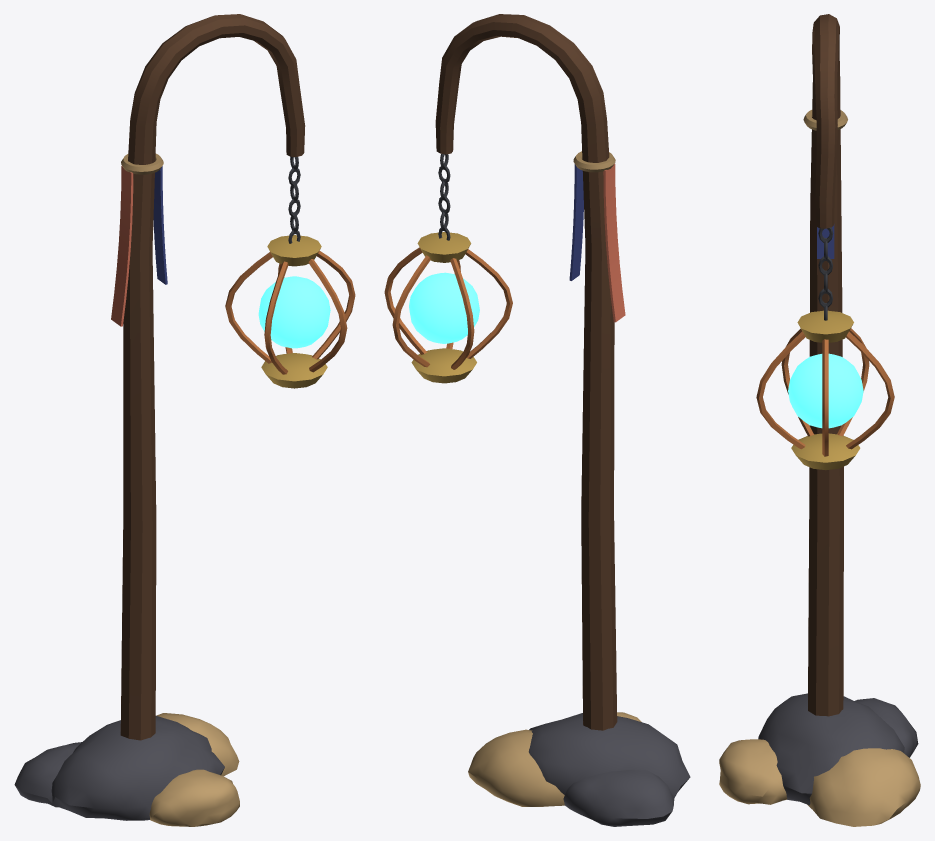
The model's file is deco_lantern_orb_crook.fbx.
3 views of the same model, side by side, from view 1: azimuth 30°, elevation 25°; view 2: azimuth 150°, elevation 25°; view 3: azimuth 270°, elevation 25° (orthographic). The views are drawn at different scales.
Visible parts, largest first — view 1: LanternOrb_Crook_Staff, LanternOrb_Crook_Cairn, LanternOrb_Crook_Cage, LanternOrb_Crook_Orb, LanternOrb_Crook_TieStrip2, LanternOrb_Crook_TieStrip1, LanternOrb_Crook_Chain; view 2: LanternOrb_Crook_Staff, LanternOrb_Crook_Cairn, LanternOrb_Crook_Cage, LanternOrb_Crook_Orb, LanternOrb_Crook_TieStrip2, LanternOrb_Crook_TieStrip1, LanternOrb_Crook_Chain; view 3: LanternOrb_Crook_Cairn, LanternOrb_Crook_Staff, LanternOrb_Crook_Cage, LanternOrb_Crook_Orb, LanternOrb_Crook_Chain, LanternOrb_Crook_TieStrip1.
Part boxes in pixels (x1,y1,x2,y2): LanternOrb_Crook_Staff: (120, 14, 305, 740); LanternOrb_Crook_Cairn: (14, 713, 239, 826); LanternOrb_Crook_Cage: (225, 235, 355, 388); LanternOrb_Crook_Orb: (258, 276, 330, 348); LanternOrb_Crook_TieStrip2: (111, 166, 133, 326); LanternOrb_Crook_TieStrip1: (153, 166, 167, 284); LanternOrb_Crook_Chain: (288, 156, 300, 243); LanternOrb_Crook_Staff: (435, 14, 617, 730); LanternOrb_Crook_Cairn: (468, 712, 690, 826); LanternOrb_Crook_Cage: (384, 232, 512, 383); LanternOrb_Crook_Orb: (409, 272, 479, 343); LanternOrb_Crook_TieStrip2: (603, 164, 625, 322); LanternOrb_Crook_TieStrip1: (569, 164, 583, 280); LanternOrb_Crook_Chain: (438, 154, 450, 240); LanternOrb_Crook_Cairn: (719, 693, 920, 826); LanternOrb_Crook_Staff: (808, 14, 843, 716); LanternOrb_Crook_Cage: (756, 310, 894, 470); LanternOrb_Crook_Orb: (788, 353, 863, 428); LanternOrb_Crook_Chain: (818, 227, 833, 320); LanternOrb_Crook_TieStrip1: (817, 224, 834, 258).
Size of the model in its own units: 119 by 277 by 63.98.
